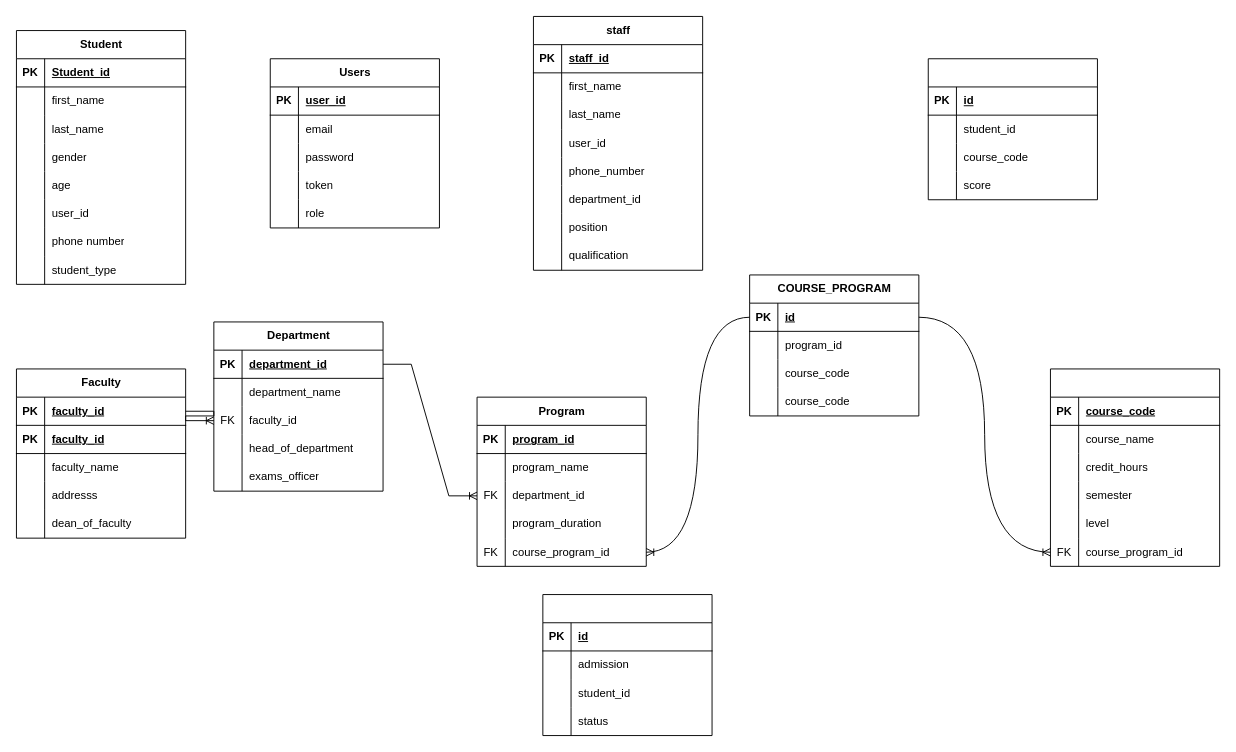
The diagram is 1236 pixels wide and 752 high, and some of its shapes have lost their labels. Here are the shapes that lost their labels. From the top down, the box of each, then its label:
(927, 58, 1097, 200): Registered_courses
(1050, 368, 1220, 566): Courses
(542, 594, 712, 736): Academics
